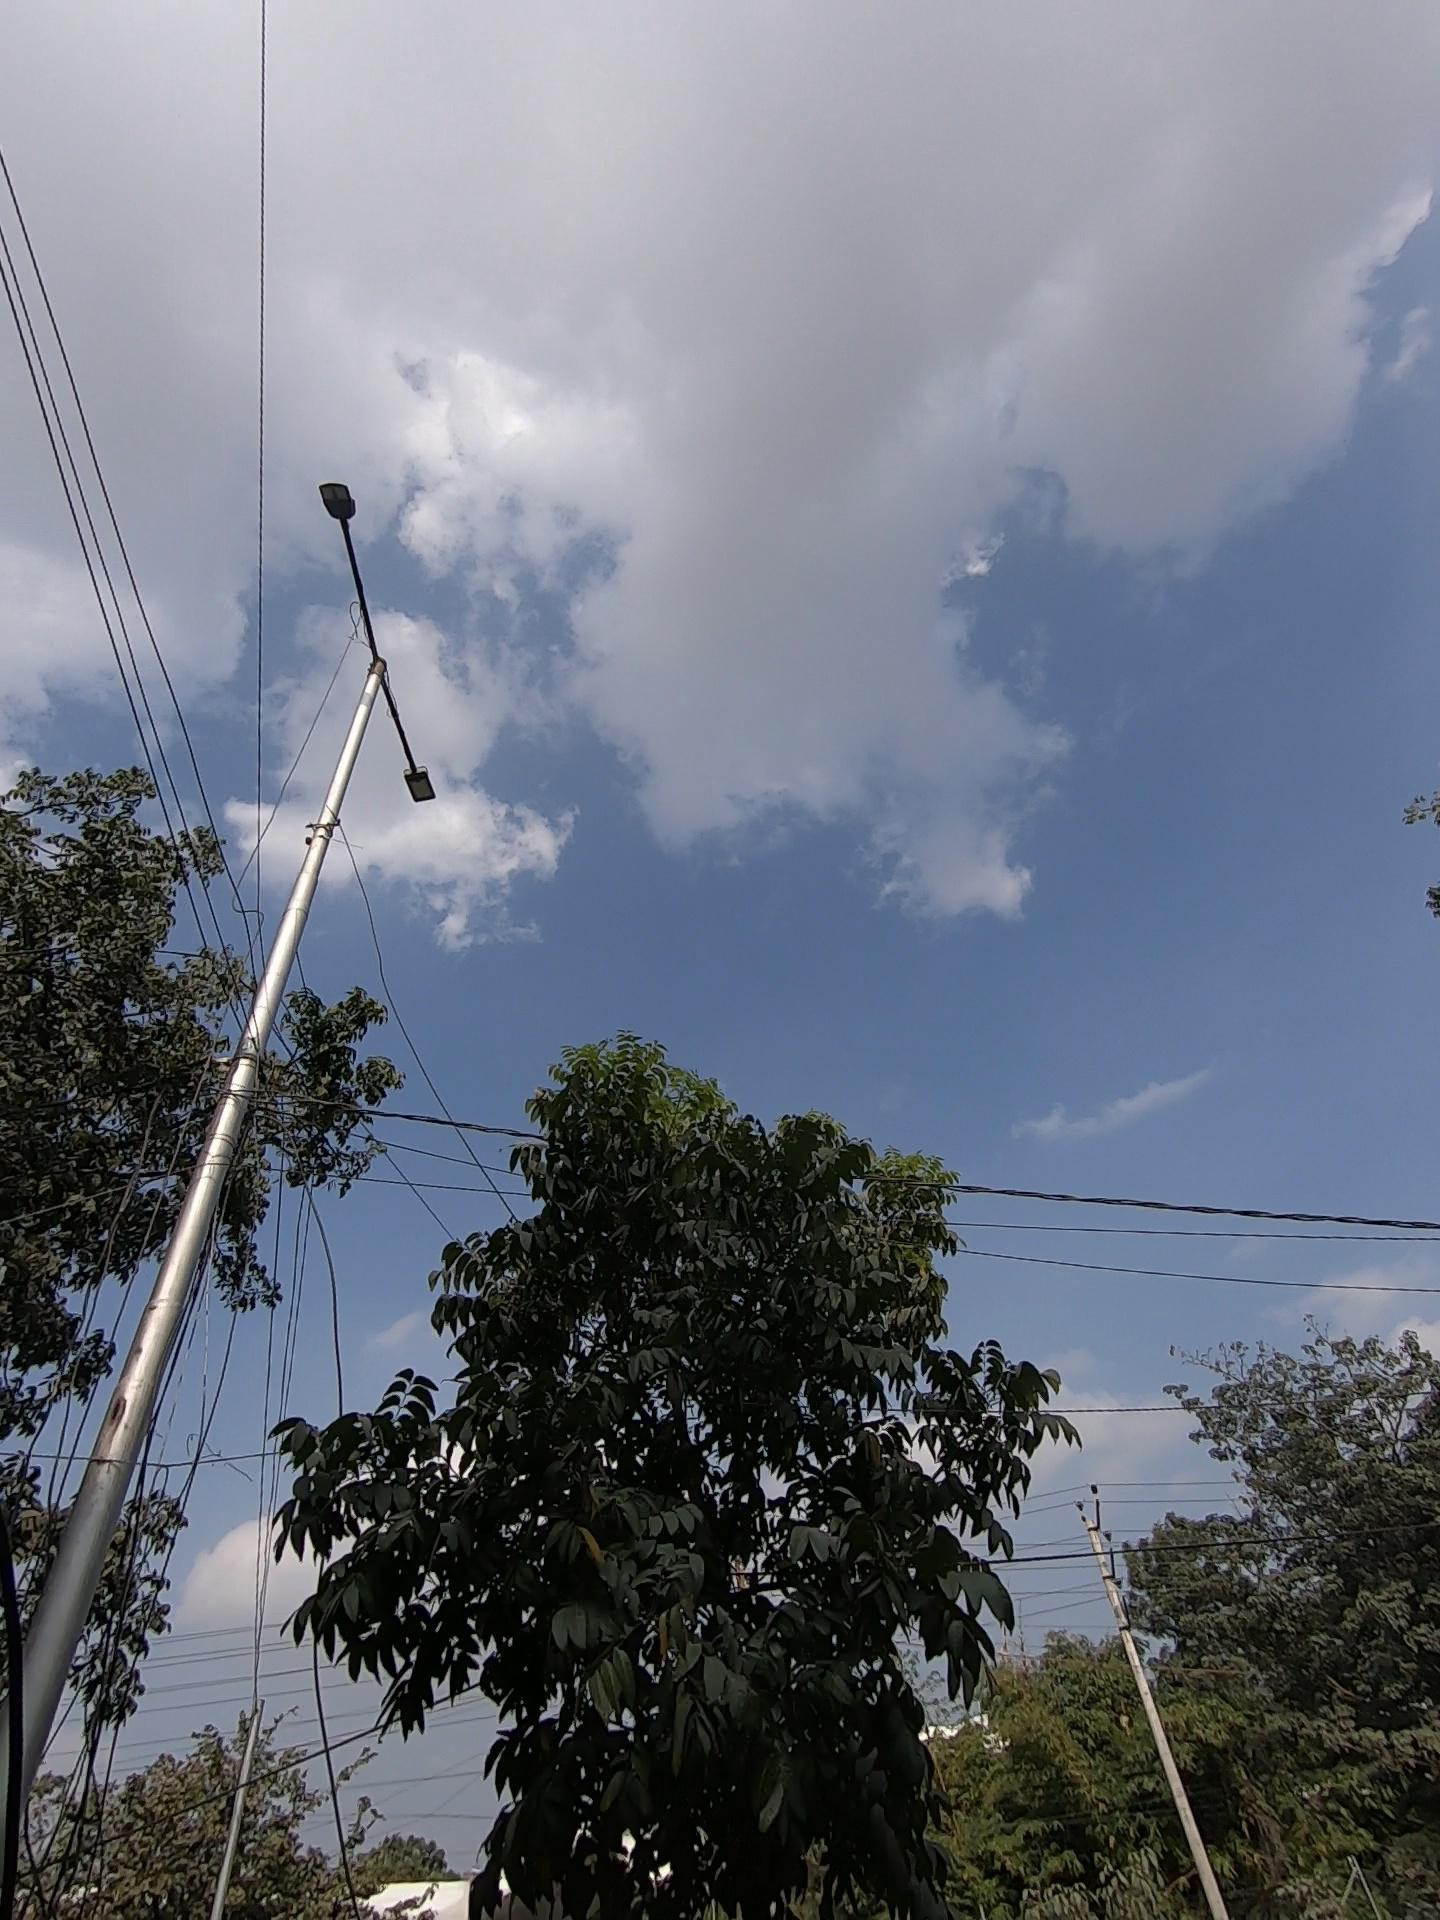off: (295, 441, 464, 836)
